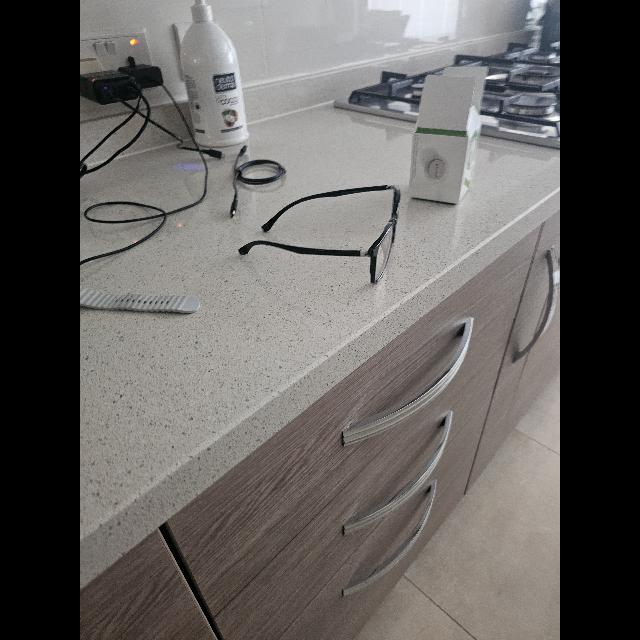glasses: (239, 185, 401, 283)
